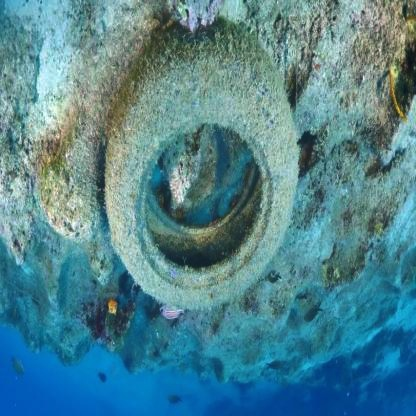tire: (93, 17, 302, 318)
